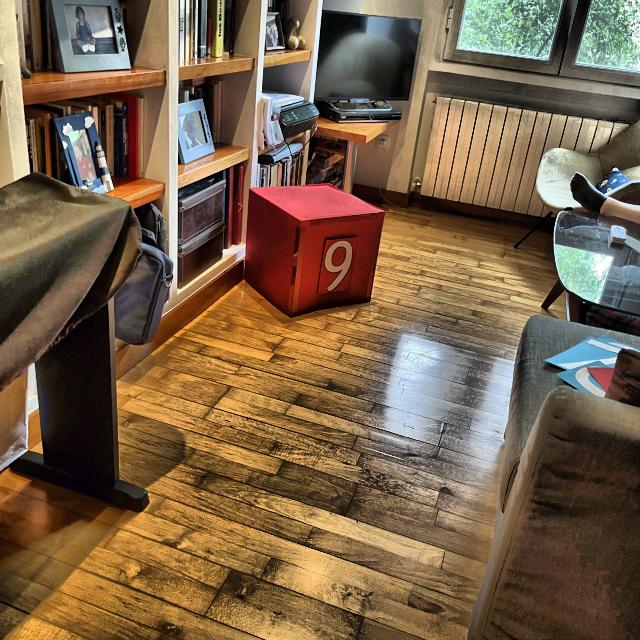nine: (323, 240, 352, 292)
red box: (244, 183, 384, 318)
